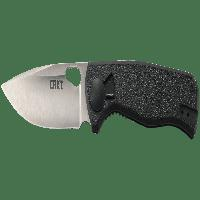knife: (2, 54, 197, 144)
